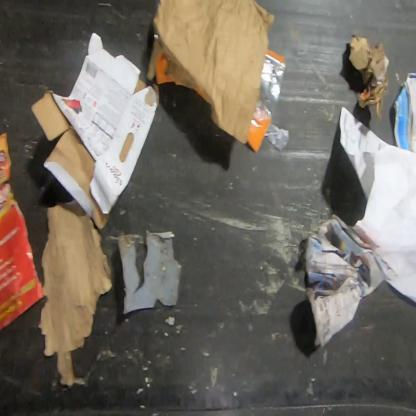cardboard: (29, 30, 161, 232), (37, 200, 115, 388), (348, 32, 392, 121)
soft_plastic: (246, 46, 292, 156), (155, 51, 182, 86)
